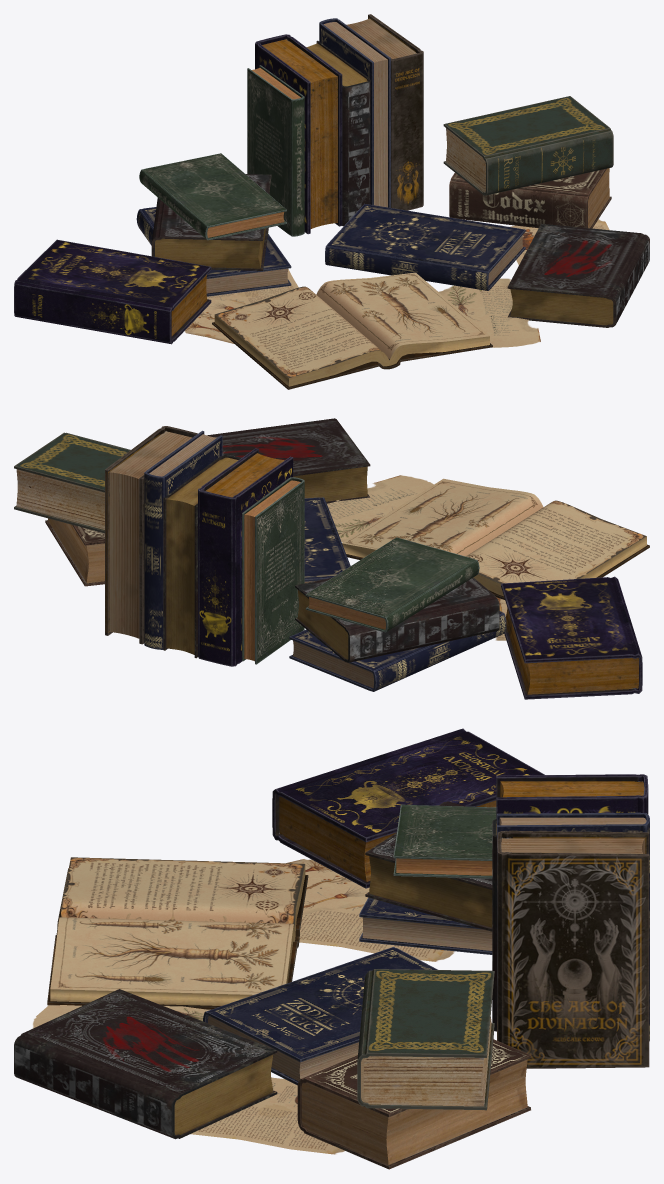
File: magic_book_set.glb
The picture shows the model from 3 angles, top to bottom: view 1: azimuth 30°, elevation 25°; view 2: azimuth 150°, elevation 25°; view 3: azimuth 270°, elevation 25°; orthographic projection. The views are drawn at different scales.
Parts seen in each view (by area): view 1: openedbook, book11, book6, book8, book10, book2, book13, book1, book7, book5, book4, book12 (+5 smaller); view 2: openedbook, book11, book2, book1, book13, book5, book12, book6, book10, book3, book4, book14 (+3 smaller); view 3: book5, openedbook, book10, book11, book6, book7, book8, book13, book2, book12, book14, paper4 (+5 smaller).
Part boxes in pixels (left/top/right/bottom): openedbook: left=212, top=272, right=492, bottom=389; book11: left=14, top=239, right=211, bottom=344; book6: left=443, top=96, right=613, bottom=195; book8: left=325, top=203, right=525, bottom=290; book10: left=507, top=223, right=649, bottom=327; book2: left=255, top=34, right=342, bottom=234; book13: left=139, top=153, right=286, bottom=240; book1: left=247, top=65, right=304, bottom=236; book7: left=449, top=168, right=611, bottom=228; book5: left=346, top=14, right=423, bottom=210; book4: left=319, top=18, right=390, bottom=207; book12: left=151, top=174, right=271, bottom=270; openedbook: left=342, top=478, right=649, bottom=599; book11: left=501, top=576, right=642, bottom=699; book2: left=198, top=448, right=293, bottom=666; book1: left=242, top=477, right=304, bottom=664; book13: left=305, top=537, right=479, bottom=632; book5: left=105, top=426, right=197, bottom=644; book12: left=295, top=577, right=499, bottom=662; book6: left=14, top=432, right=130, bottom=533; book10: left=207, top=418, right=370, bottom=503; book3: left=163, top=454, right=241, bottom=658; book4: left=144, top=430, right=222, bottom=649; book14: left=289, top=611, right=506, bottom=691; book5: left=497, top=831, right=649, bottom=1068; openedbook: left=47, top=857, right=308, bottom=1009; book10: left=14, top=989, right=277, bottom=1139; book11: left=272, top=728, right=545, bottom=888; book6: left=357, top=969, right=494, bottom=1110; book7: left=297, top=1039, right=530, bottom=1169; book8: left=203, top=947, right=437, bottom=1085; book13: left=393, top=804, right=496, bottom=878; book2: left=496, top=774, right=648, bottom=818; book12: left=365, top=801, right=492, bottom=931; book14: left=359, top=897, right=492, bottom=954; paper4: left=190, top=1077, right=344, bottom=1154.
Size of the model in its own units: 0.9427 by 0.2521 by 0.6499.
Materials: 3 (3 with a texture image).
